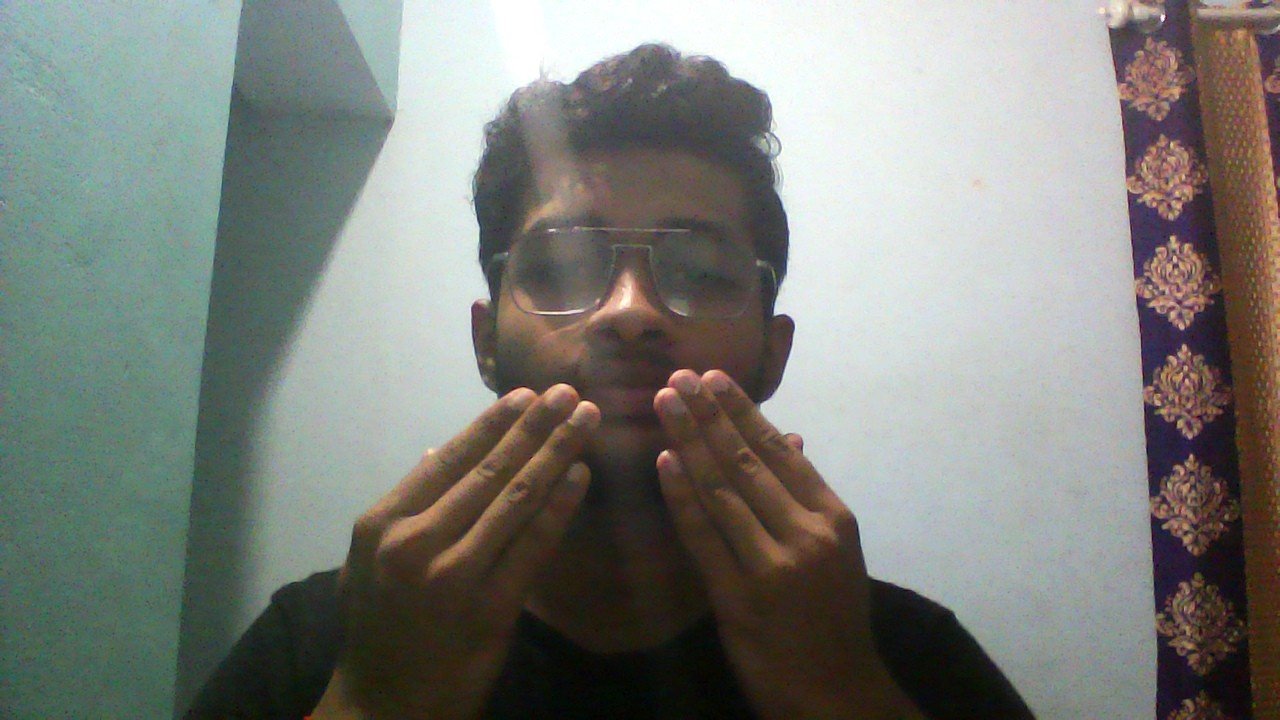Thanks: (339, 357, 862, 720)
